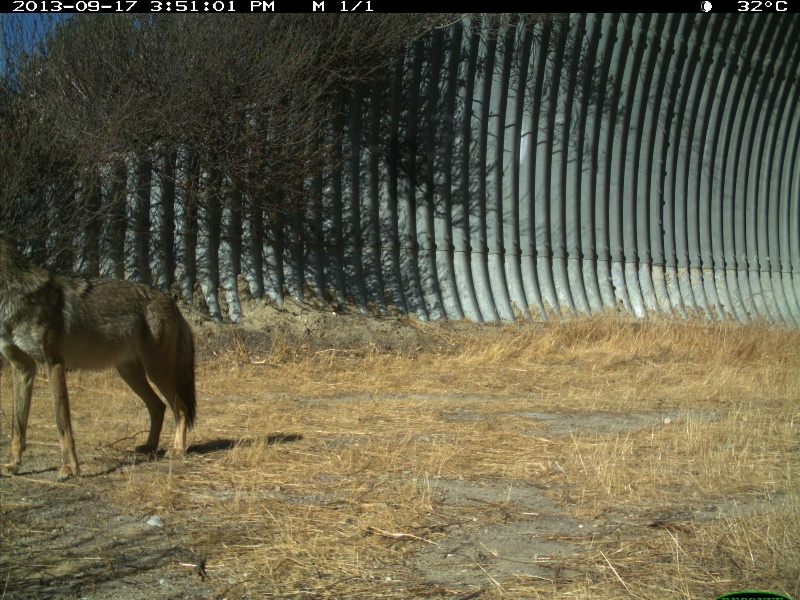coyote: (1, 232, 200, 489)
